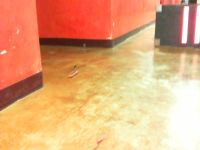switch: (181, 6, 189, 43), (193, 6, 199, 44)
